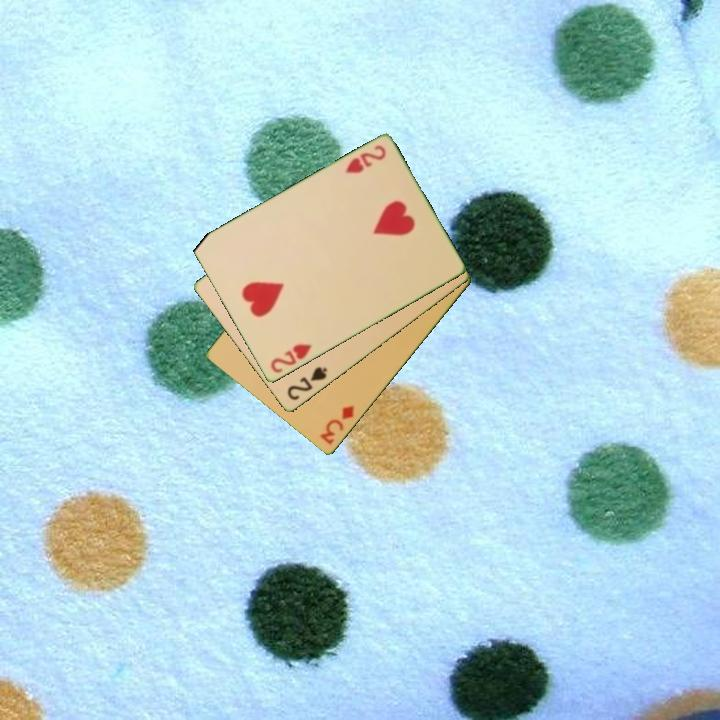2h: (267, 341, 315, 376), (342, 142, 389, 177)
2s: (283, 363, 331, 404)
3d: (317, 401, 357, 448)
